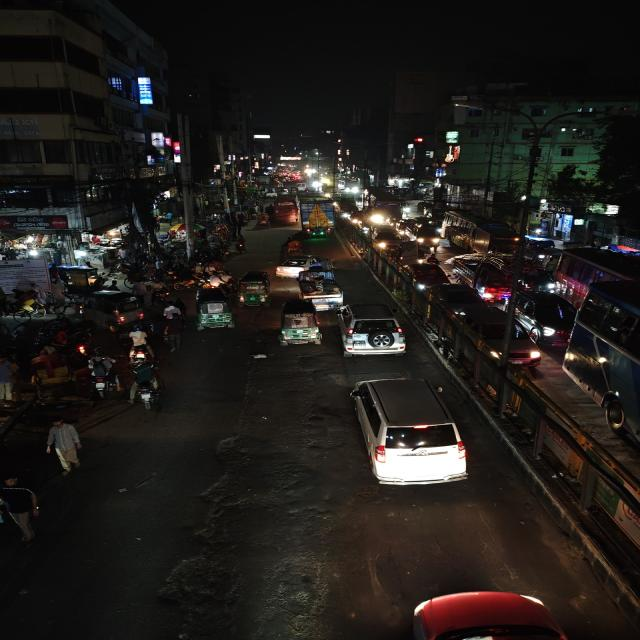bus: (570, 280, 640, 446), (443, 208, 528, 256), (367, 187, 416, 225), (270, 194, 300, 226)
car: (344, 374, 470, 492), (399, 585, 582, 640), (446, 307, 541, 371), (333, 302, 408, 359), (511, 290, 573, 346), (83, 292, 146, 328), (398, 262, 448, 292), (274, 254, 329, 278), (370, 225, 405, 251)
cng: (278, 298, 324, 348), (193, 288, 236, 332), (236, 270, 272, 308)
motorcycle: (128, 360, 165, 412), (83, 348, 117, 404), (126, 333, 152, 363), (162, 301, 184, 321), (232, 238, 251, 256)
pedestrian: (0, 476, 43, 547), (41, 417, 90, 475), (0, 354, 19, 402)
pickup_van: (448, 255, 514, 298), (400, 216, 441, 248)
rickshaw: (295, 267, 345, 305)
truck: (295, 269, 345, 305), (298, 194, 338, 238)
